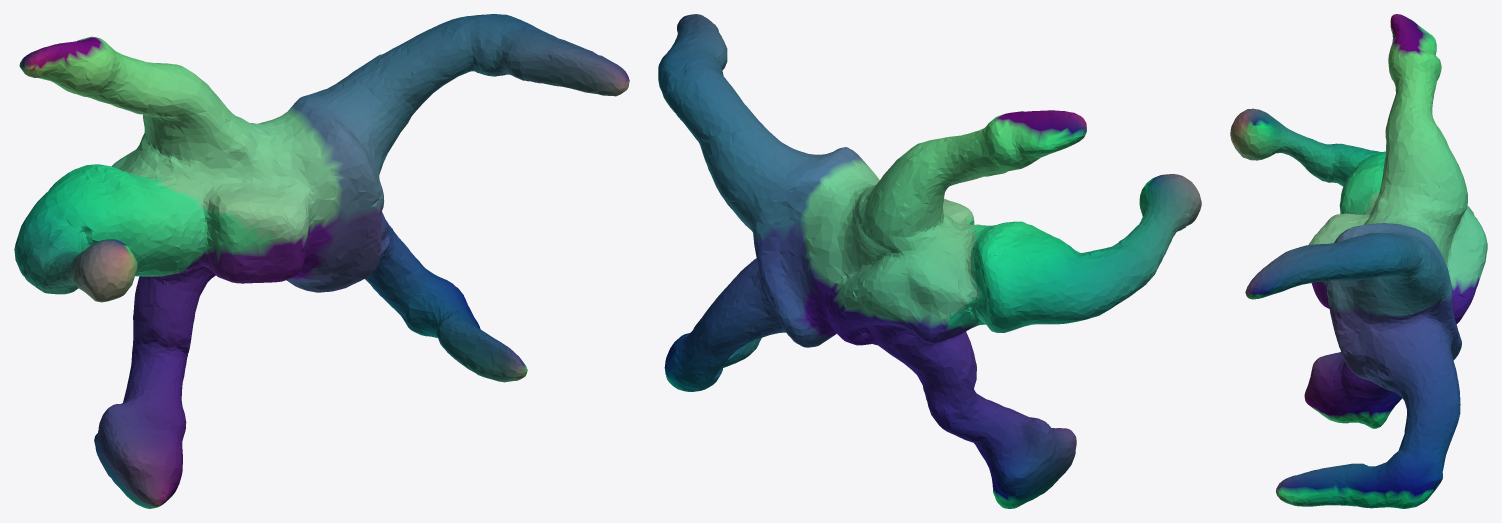
The model's file is santa-9.off.obj.
3 renders of one model, left to right at view 1: azimuth 30°, elevation 25°; view 2: azimuth 150°, elevation 25°; view 3: azimuth 270°, elevation 25°, orthographic. The views are drawn at different scales.
Size of the model in its own units: 1.42 by 1.12 by 0.6854.
